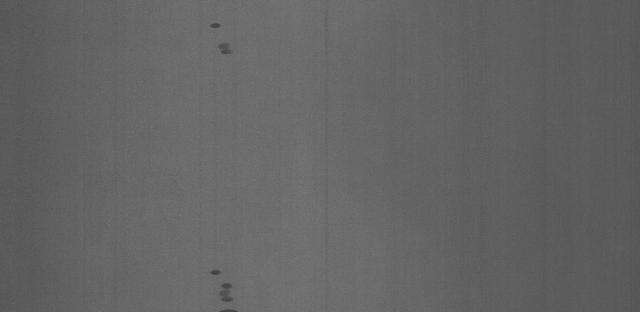oil_spot: (203, 263, 246, 312), (207, 15, 243, 66)
